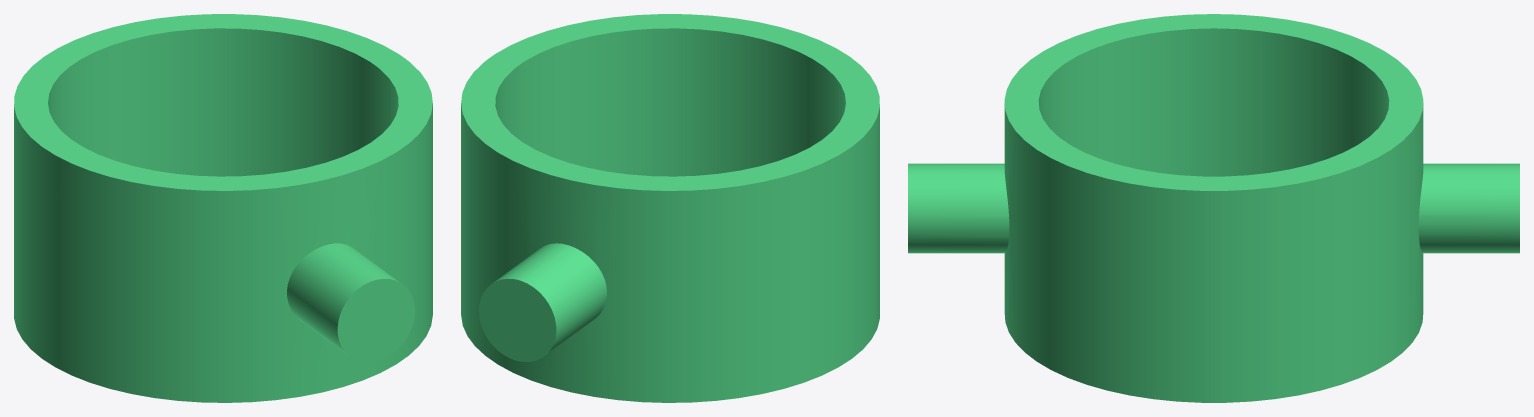
Rendered from markerHolder2.obj.
The picture shows the model from 3 angles, left to right: view 1: azimuth 30°, elevation 25°; view 2: azimuth 150°, elevation 25°; view 3: azimuth 270°, elevation 25°; orthographic projection.
Parts seen in each view (by area): view 1: MarkerHolder_2; view 2: MarkerHolder_2; view 3: MarkerHolder_2.
Part boxes in pixels (x1=…): MarkerHolder_2: x1=14, y1=14, x2=432, y2=402; MarkerHolder_2: x1=461, y1=14, x2=879, y2=402; MarkerHolder_2: x1=908, y1=14, x2=1519, y2=402.
Size of the model in its own units: 21.5 by 12 by 31.4.
